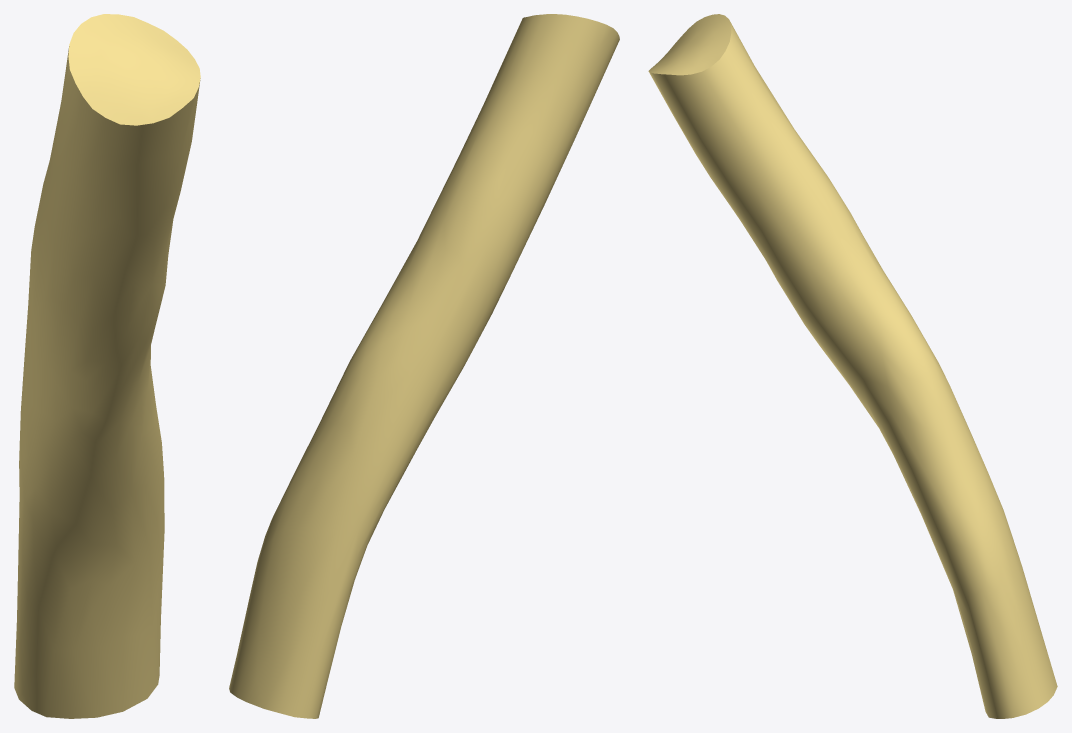
The model's file is fma72606-r_mm2666m.glb.
The picture shows the model from 3 angles, left to right: view 1: azimuth 30°, elevation 25°; view 2: azimuth 150°, elevation 25°; view 3: azimuth 270°, elevation 25°; orthographic projection. The views are drawn at different scales.
Visible parts, largest first — view 1: FMA72606-R_MM2666M; view 2: FMA72606-R_MM2666M; view 3: FMA72606-R_MM2666M.
Part boxes in pixels (x1,y1,x2,y2): FMA72606-R_MM2666M: [14, 14, 200, 718]; FMA72606-R_MM2666M: [229, 14, 619, 718]; FMA72606-R_MM2666M: [648, 14, 1057, 718].
Size of the model in its own units: 0.00481 by 0.013 by 0.00778.
